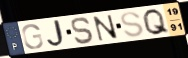G: (21, 23, 45, 50)
J: (46, 18, 69, 49)
N: (91, 14, 121, 43)
Q: (142, 7, 172, 36)
S: (119, 11, 146, 39), (70, 16, 96, 45)
